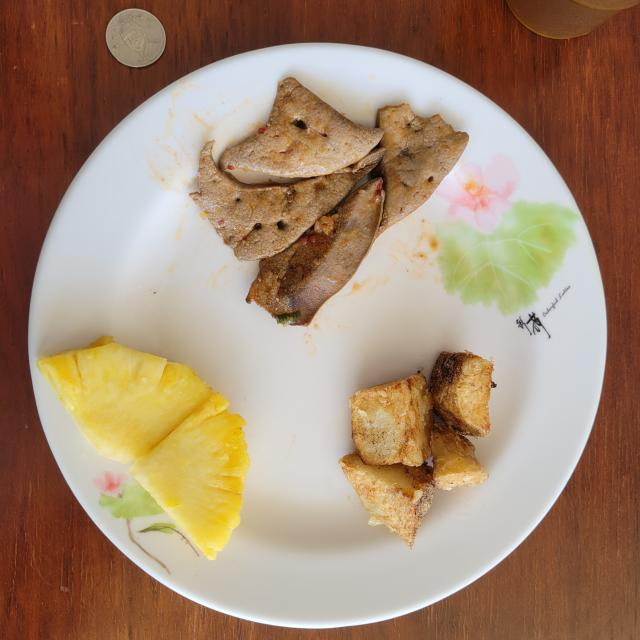coin: (106, 9, 166, 68)
fried potato: (339, 351, 495, 548)
pig liver: (191, 78, 469, 325)
pineapple: (38, 336, 250, 560)
